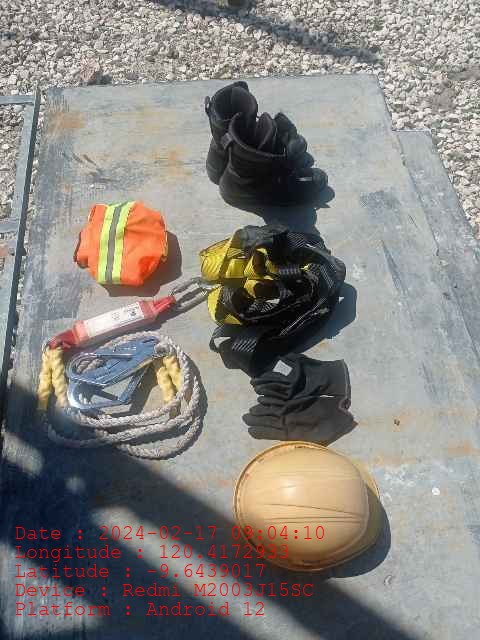ROMPI: (73, 201, 167, 287)
SARUNG_TANGAN: (242, 394, 355, 445)
SEPATU: (202, 80, 329, 210)
TAMBANG_SLING: (35, 285, 204, 460)
